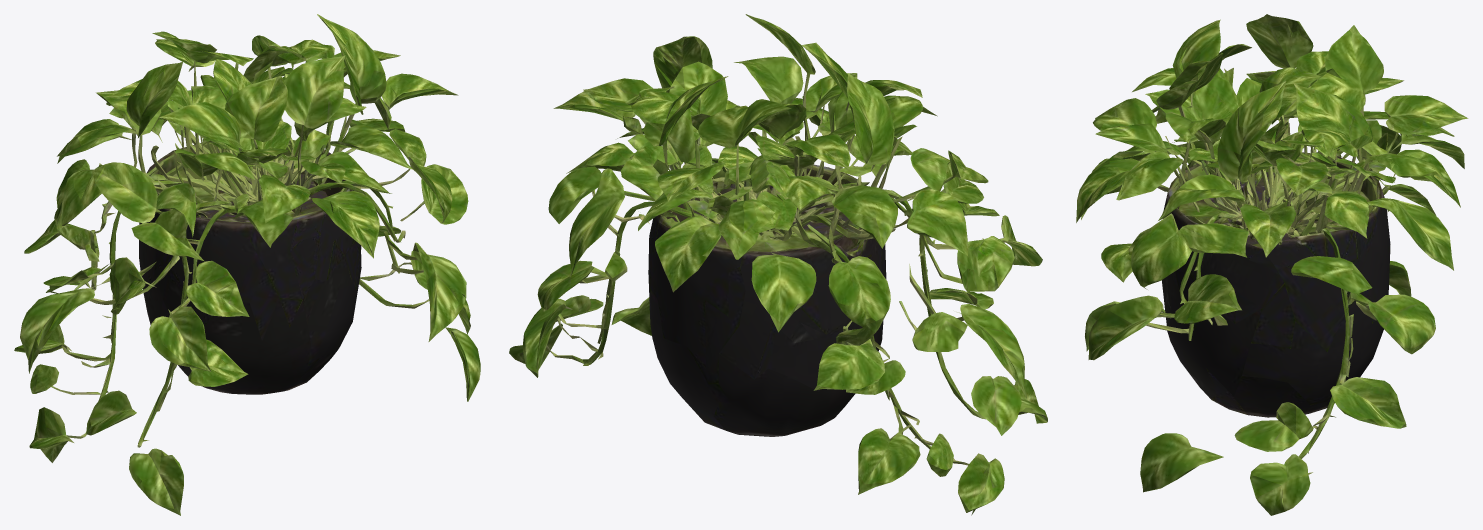
Rendered from milked-pothos.glb.
3 views of the same model, side by side, from view 1: azimuth 30°, elevation 25°; view 2: azimuth 150°, elevation 25°; view 3: azimuth 270°, elevation 25° (orthographic). The views are drawn at different scales.
Visible parts, largest first — view 1: output_unwrapped; view 2: output_unwrapped; view 3: output_unwrapped.
Boxes of the visible parts, x1=… form: output_unwrapped: x1=14, y1=14, x2=480, y2=515; output_unwrapped: x1=509, y1=14, x2=1047, y2=515; output_unwrapped: x1=1076, y1=14, x2=1468, y2=515.
Size of the model in its own units: 1.9 by 1.51 by 1.36.
1 material, 1 textured.
